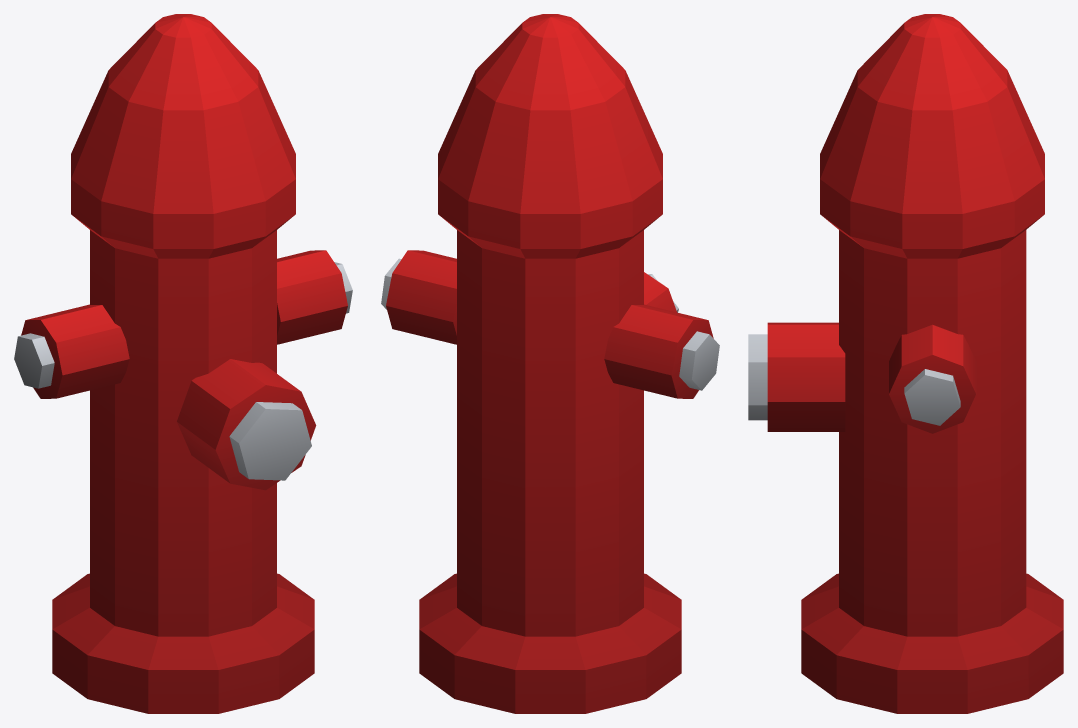
File: fire_hydrant_01.fbx
3 renders of one model, left to right at view 1: azimuth 30°, elevation 25°; view 2: azimuth 150°, elevation 25°; view 3: azimuth 270°, elevation 25°, orthographic.
Parts seen in each view (by area): view 1: fire_hydrant_01_LOD0; view 2: fire_hydrant_01_LOD0; view 3: fire_hydrant_01_LOD0.
Boxes of the visible parts, box(x1,y1,x2,y2) form: fire_hydrant_01_LOD0: box(14, 14, 352, 713); fire_hydrant_01_LOD0: box(381, 14, 719, 713); fire_hydrant_01_LOD0: box(748, 14, 1063, 713).
Size of what is drawn, in the model's own units: 0.37 by 0.73 by 0.3252.
1 material, 1 textured.
